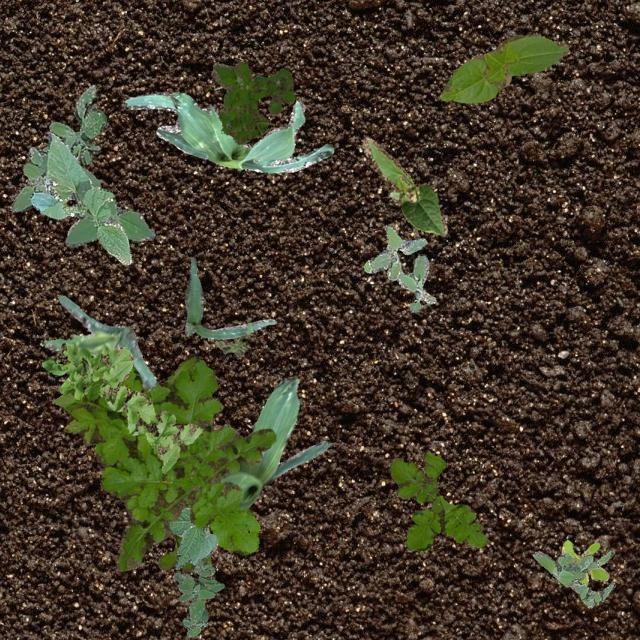crop: (124, 90, 332, 172), (218, 376, 330, 509), (29, 132, 130, 264), (42, 294, 156, 392), (439, 34, 566, 102), (361, 137, 447, 236), (183, 256, 274, 338), (168, 506, 218, 568)
weed: (53, 354, 274, 570), (8, 84, 154, 245), (42, 342, 202, 472), (390, 452, 488, 550), (210, 62, 292, 144), (362, 224, 434, 310), (532, 548, 614, 608), (172, 558, 224, 636), (560, 538, 608, 584), (158, 532, 210, 570), (214, 332, 252, 356)
